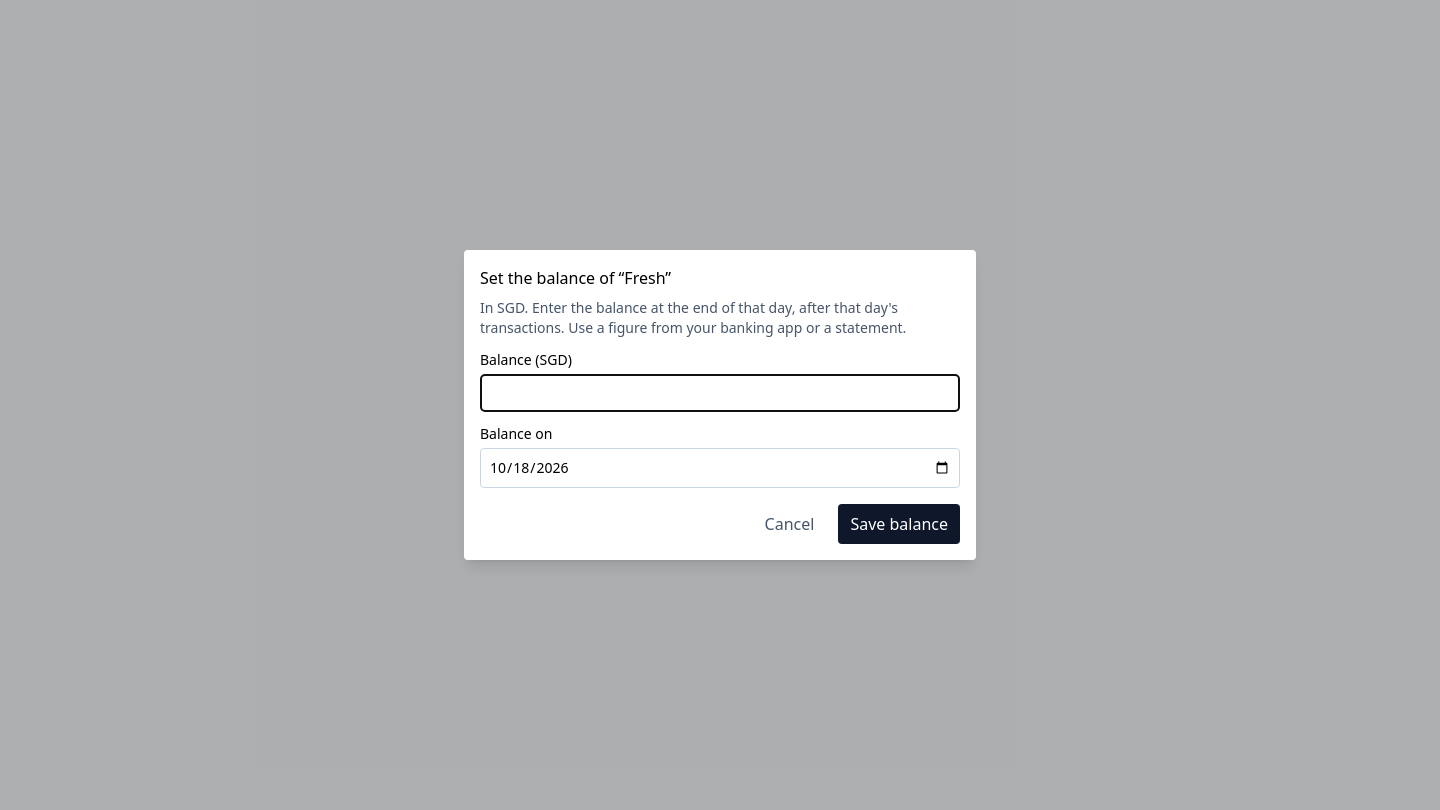
Test: BalanceDialog: nothing is sent while what was typed is wrong › a balance of  is refused with its reason
What coordinates should you click on to do the following:
click the button with test id "balance-save"
I would click on:
 (899, 524)
Its box is x1=838 y1=504 x2=960 y2=544.
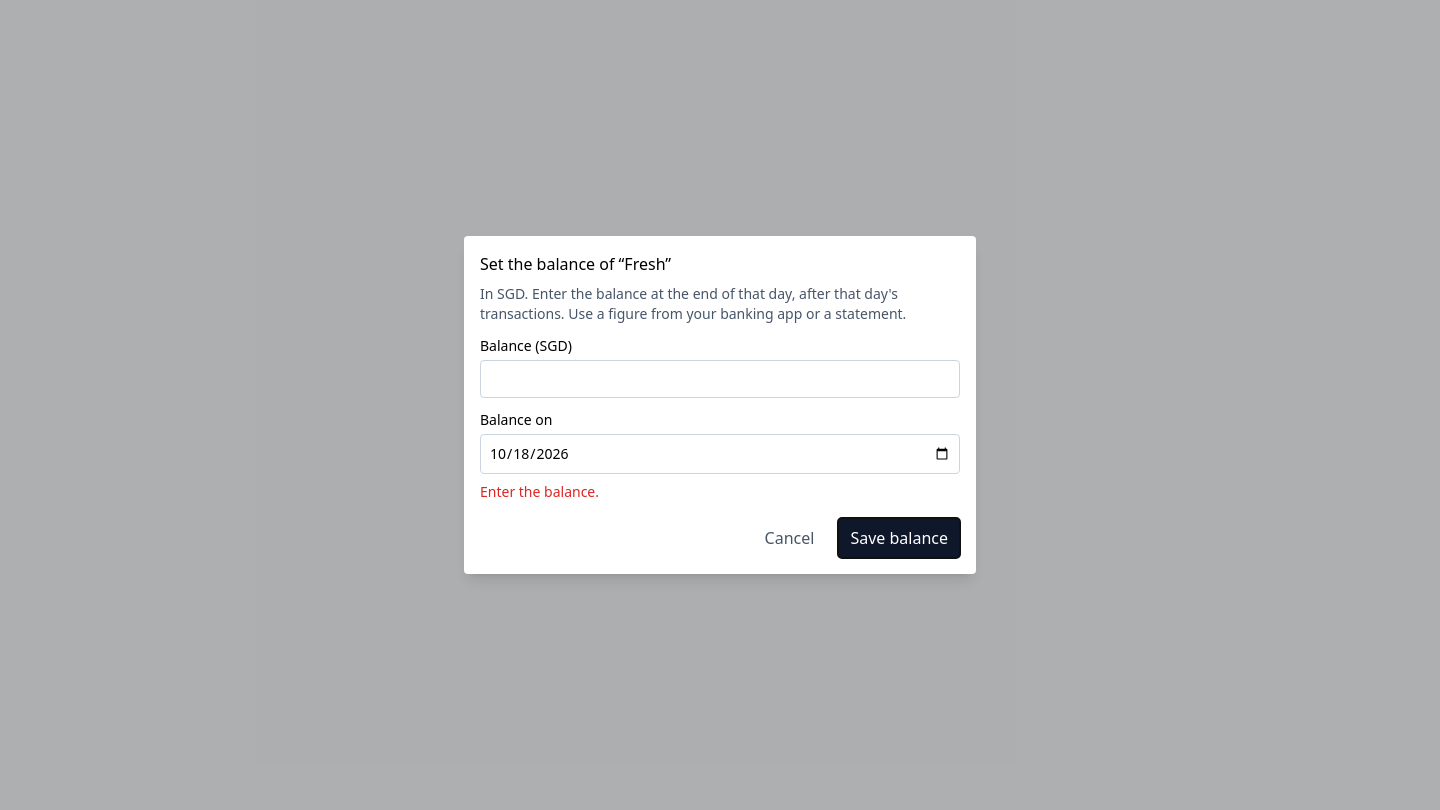
Expected: the message with test id "balance-error" reads "Enter the balance.", x1=480 y1=482 x2=599 y2=501
